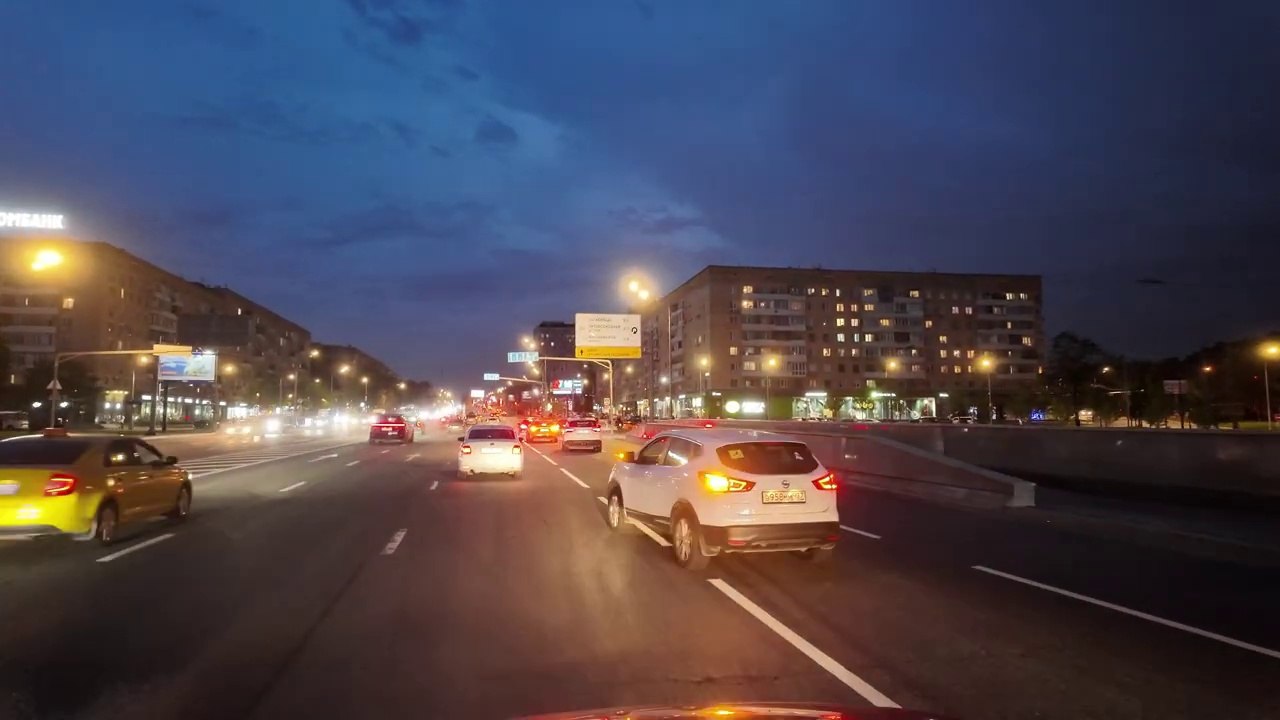acesa: (21, 242, 73, 280), (622, 272, 658, 309), (760, 351, 784, 376), (1256, 338, 1279, 364)
